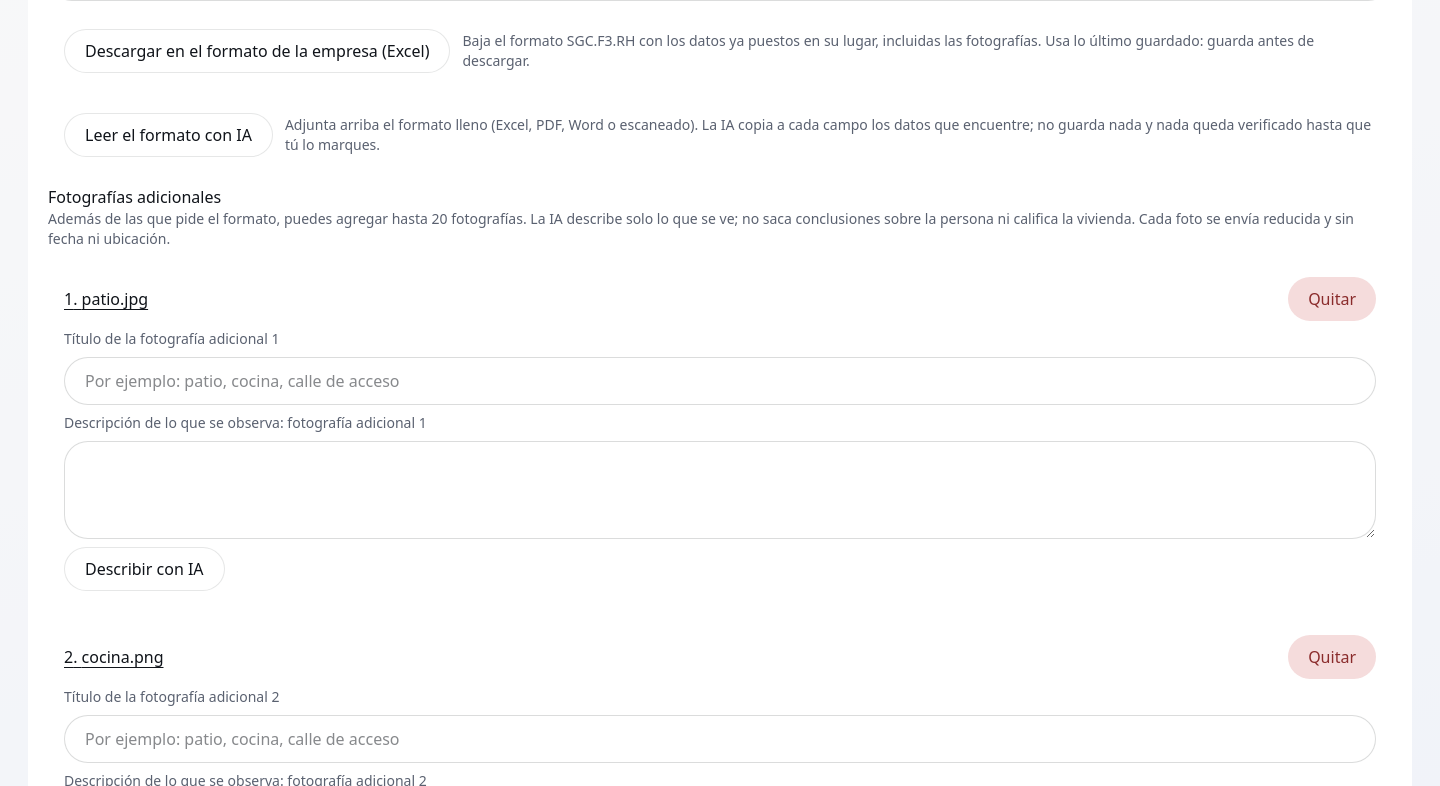
Test: AssessmentsSection › agrega fotografías adicionales al estudio, la IA las describe y se guardan con su título
Earlier steps of the test are not shown.
Later steps or results of the test are not shown.
(page scrolled)
Check: the link "1. patio.jpg" is shown, box left=64, top=287, right=148, bottom=311
Type "Patio" into the field labelled "Título de la fotografía adicional 1" at (720, 381), box left=64, top=357, right=1376, bottom=405
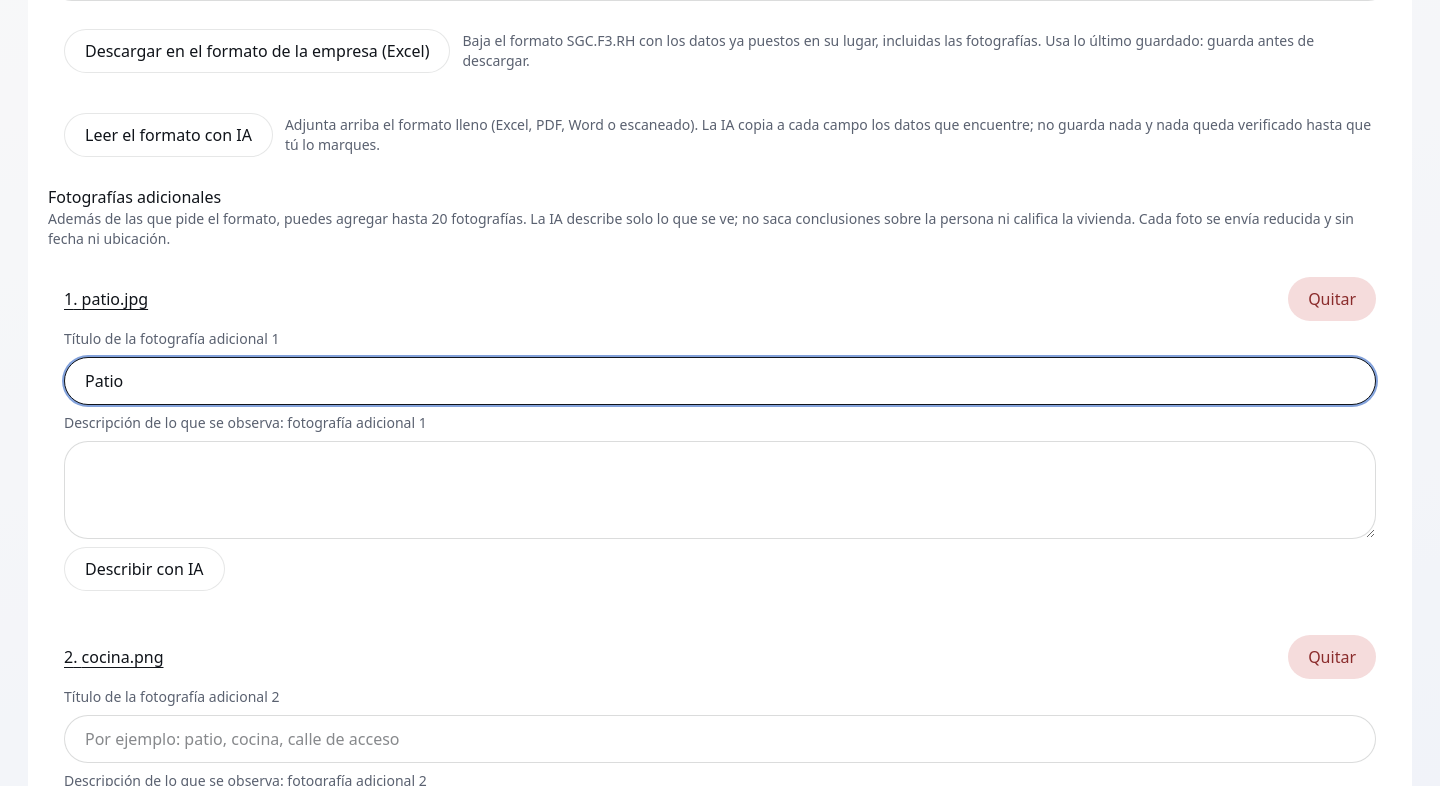
Click the button with aria-label "Describir con IA: fotografía adicional 1" at (144, 569), box left=64, top=547, right=225, bottom=591
(page scrolled)
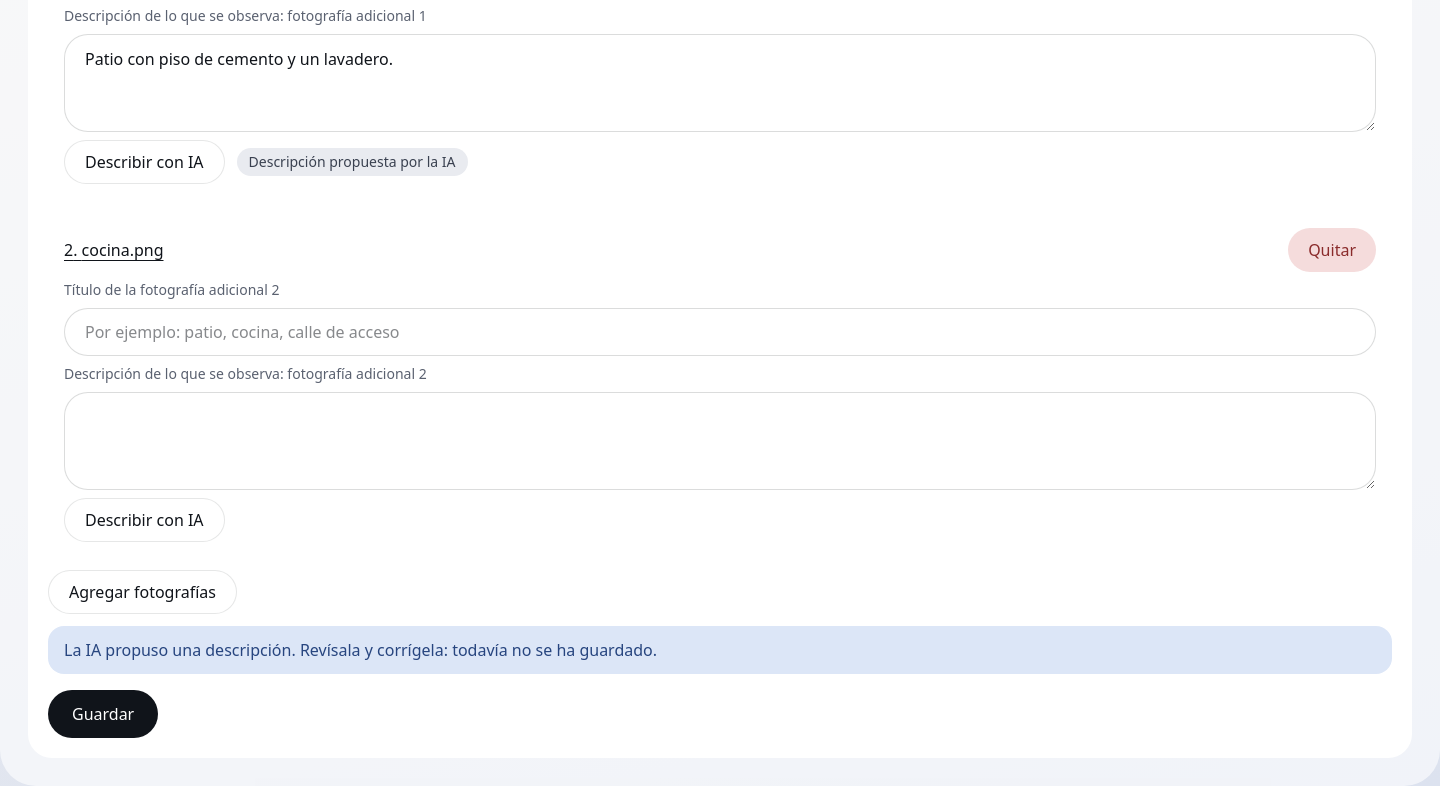
Check: the text box labelled "Descripción de lo que se observa: fotografía adicional 1" holds "Patio con piso de cemento y un lavadero.", box left=64, top=34, right=1376, bottom=132
Check: the text "Descripción propuesta por la IA" is shown, box left=237, top=148, right=468, bottom=176
Type "Cocina con estufa." into the text box labelled "Descripción de lo que se observa: fotografía adicional 2" at (720, 441), box left=64, top=392, right=1376, bottom=490
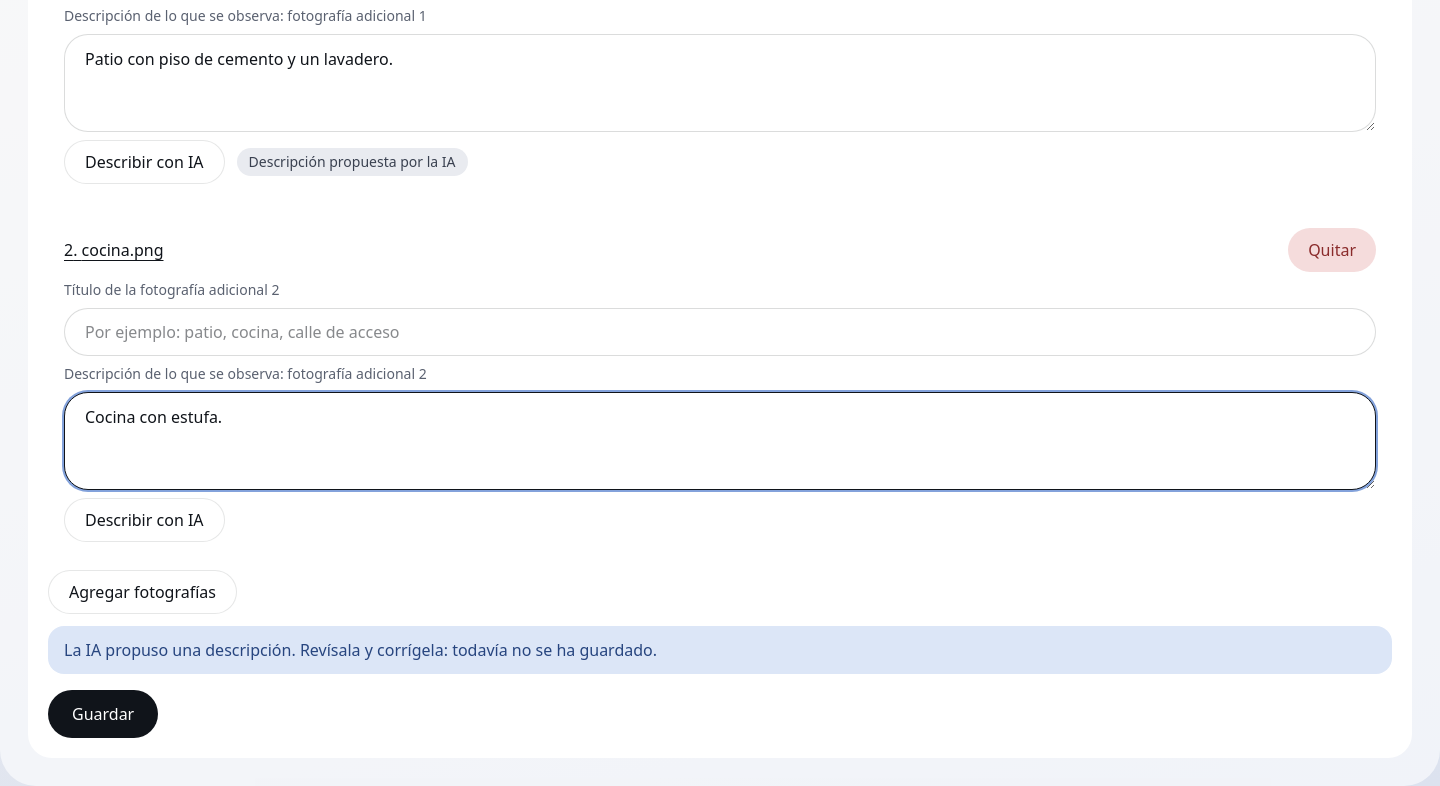
Click the button "Guardar" at (103, 714), box left=48, top=690, right=158, bottom=738
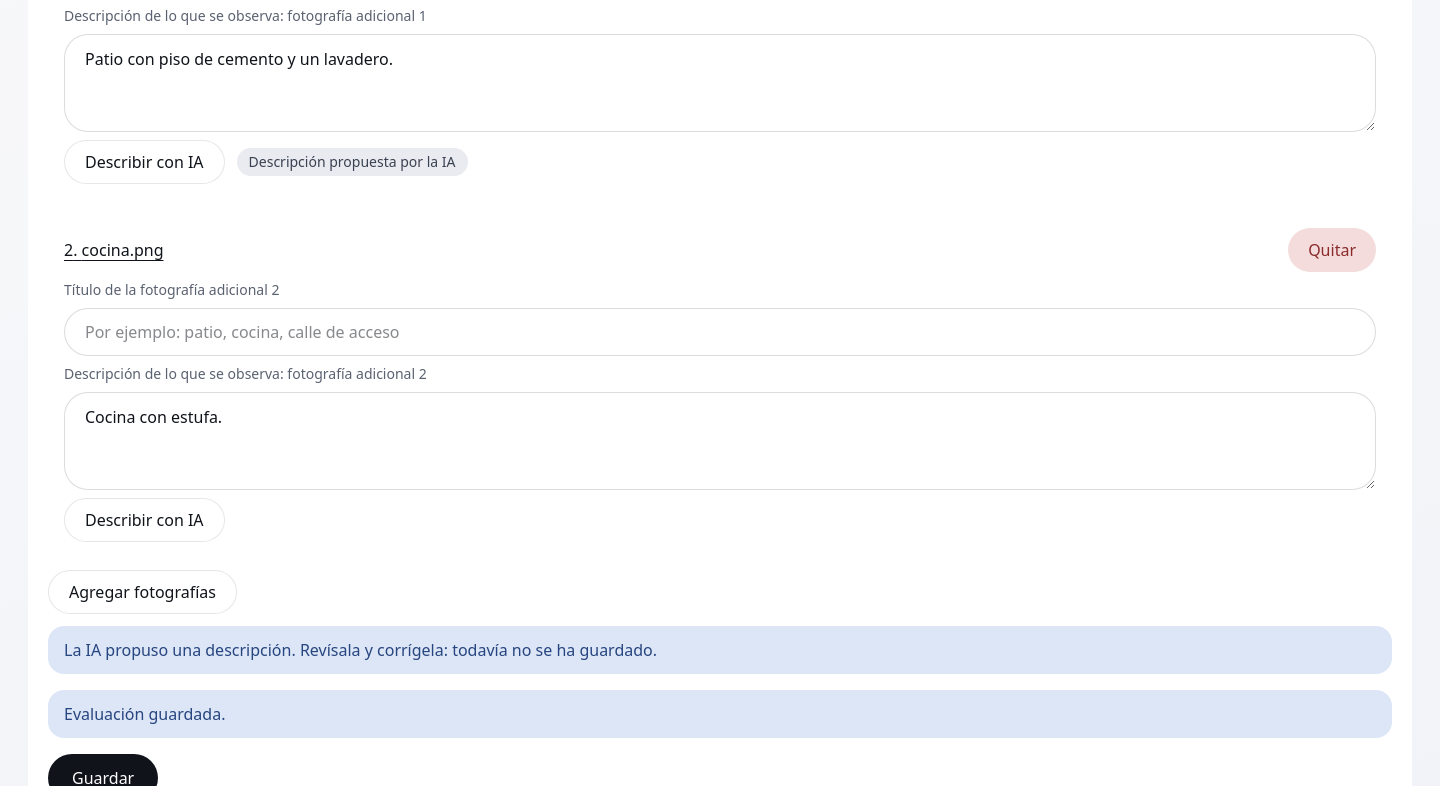
Check: the text "Evaluación guardada." is shown, box left=48, top=690, right=1392, bottom=738
